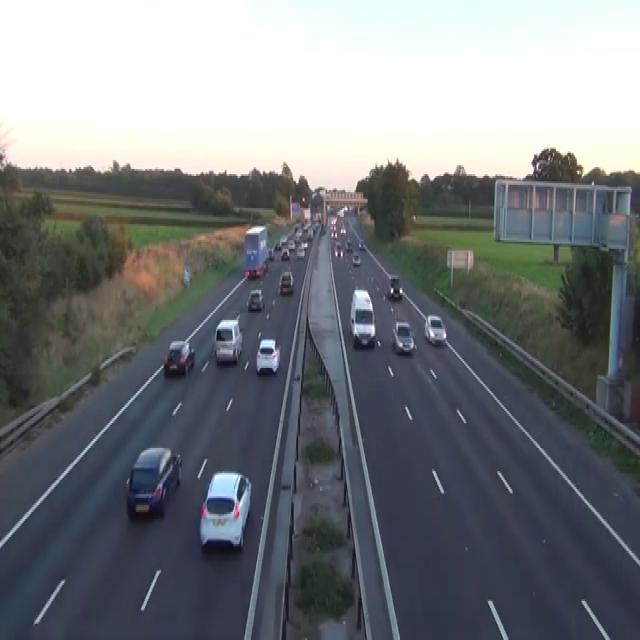Car: (199, 469, 251, 551), (125, 447, 182, 518), (349, 288, 375, 348), (213, 318, 243, 364), (163, 340, 195, 375), (256, 338, 280, 373), (392, 320, 416, 354), (424, 315, 446, 345), (246, 288, 264, 311), (278, 270, 294, 294), (389, 276, 402, 298), (183, 265, 190, 286), (334, 242, 343, 258), (351, 251, 360, 265), (296, 245, 305, 258), (281, 247, 289, 260), (267, 247, 274, 260), (273, 240, 281, 251), (358, 238, 365, 249), (280, 235, 287, 245), (244, 268, 251, 278), (346, 236, 351, 249), (446, 182, 454, 190), (328, 204, 335, 213), (301, 240, 308, 249), (288, 240, 295, 249), (337, 208, 344, 217), (330, 217, 336, 227), (301, 196, 306, 206), (340, 226, 346, 234), (330, 230, 336, 238), (352, 204, 357, 213), (343, 204, 348, 212)
Truck: (243, 224, 268, 279)
